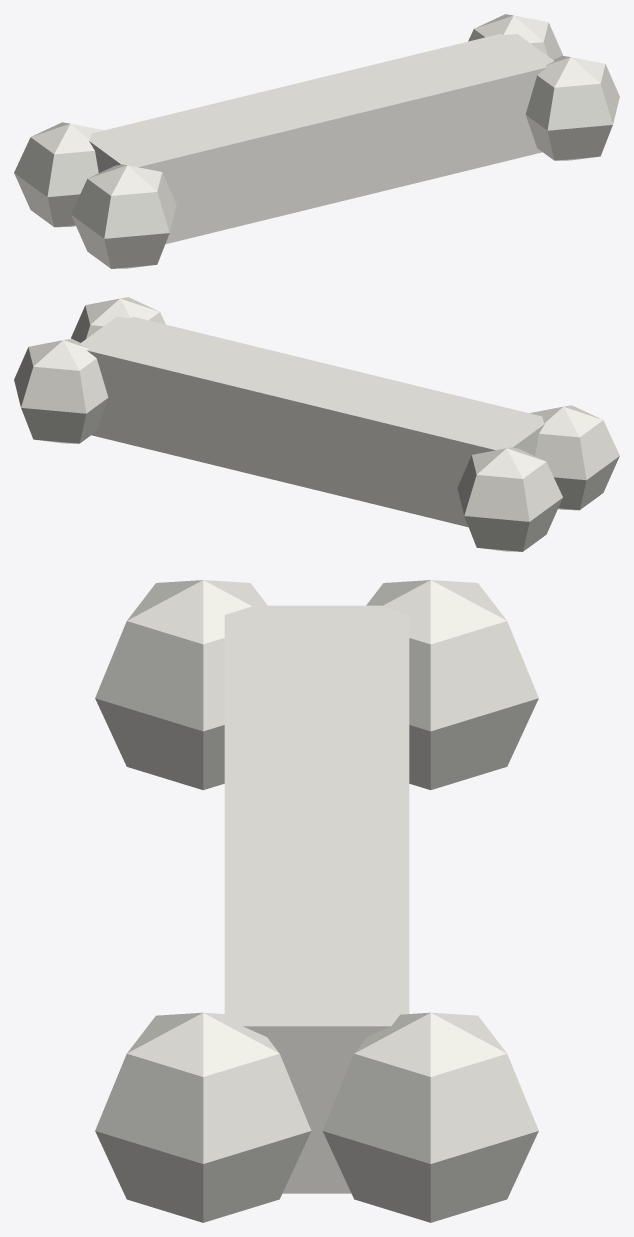
Rendered from FD_DogBone_01.glb.
The picture shows the model from 3 angles, top to bottom: view 1: azimuth 30°, elevation 25°; view 2: azimuth 150°, elevation 25°; view 3: azimuth 270°, elevation 25°; orthographic projection. The views are drawn at different scales.
Visible parts, largest first — view 1: FD_DogBone_01; view 2: FD_DogBone_01; view 3: FD_DogBone_01.
Boxes of the visible parts, box(x1,y1,x2,y2) form: FD_DogBone_01: box(14, 14, 619, 268); FD_DogBone_01: box(14, 297, 619, 551); FD_DogBone_01: box(95, 580, 538, 1222).
Size of the model in its own units: 0.1729 by 0.032 by 0.0624.
Materials: 1 (1 with a texture image).
